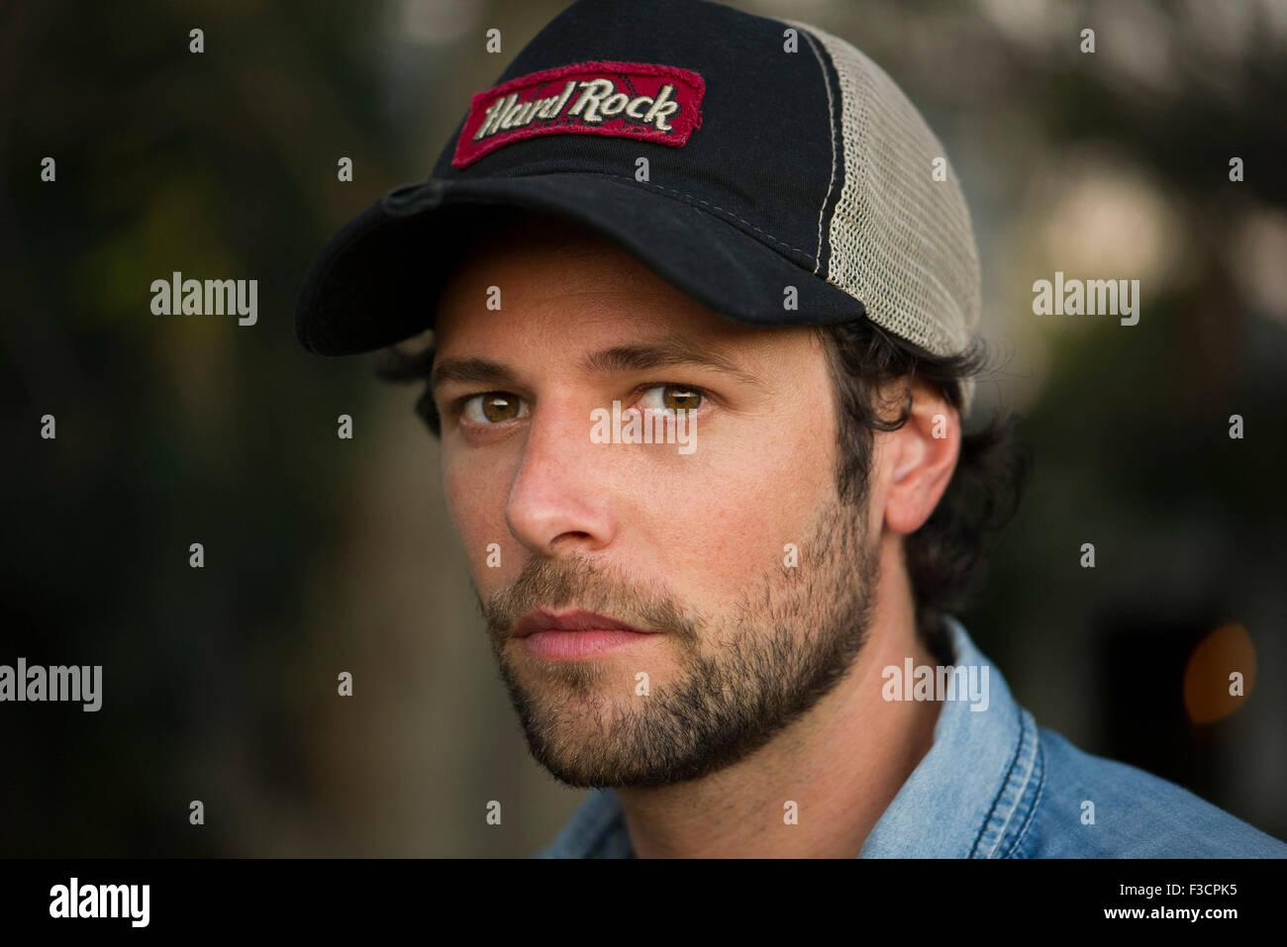cap: (272, 0, 1052, 455)
